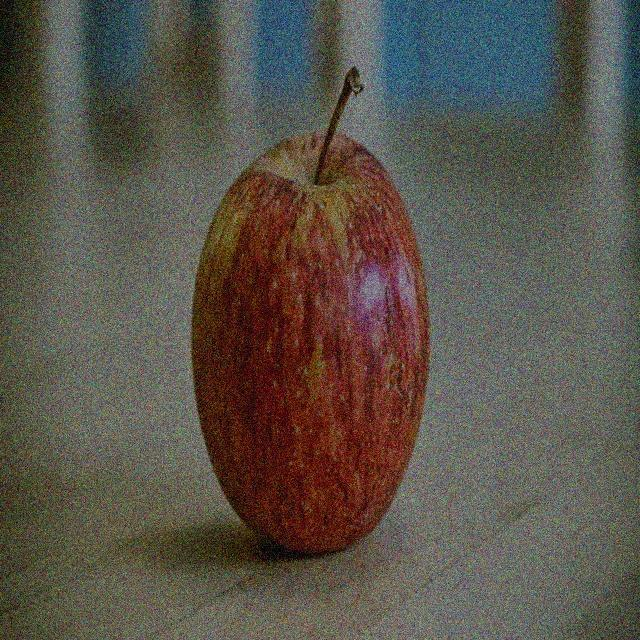red apple: (193, 126, 434, 553)
